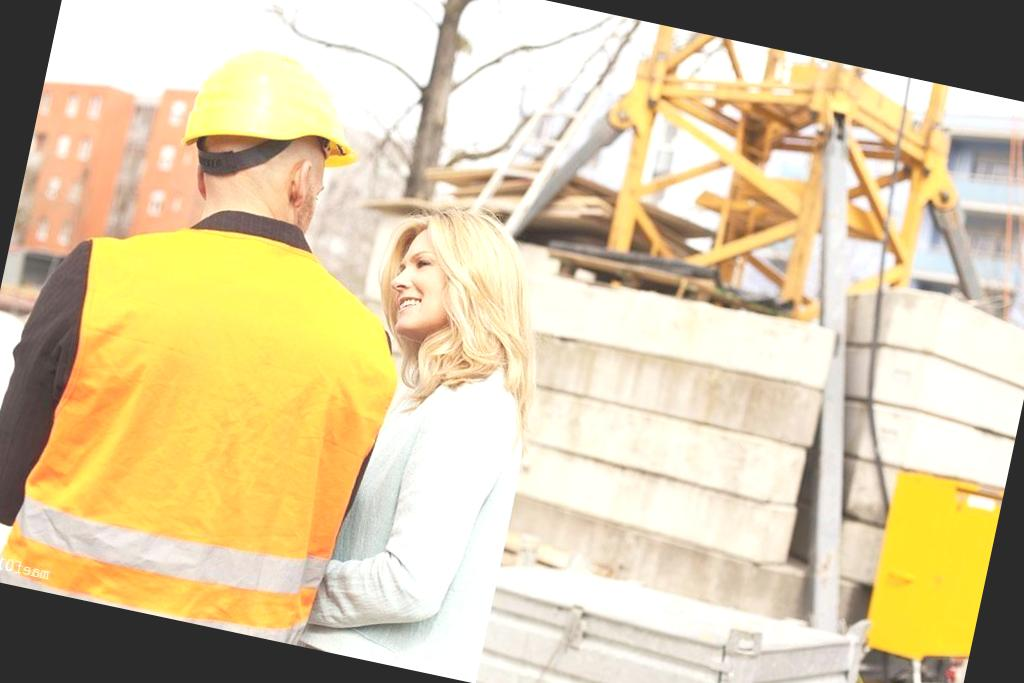helmet: (160, 29, 382, 182)
person: (0, 7, 411, 644), (296, 185, 609, 683)
